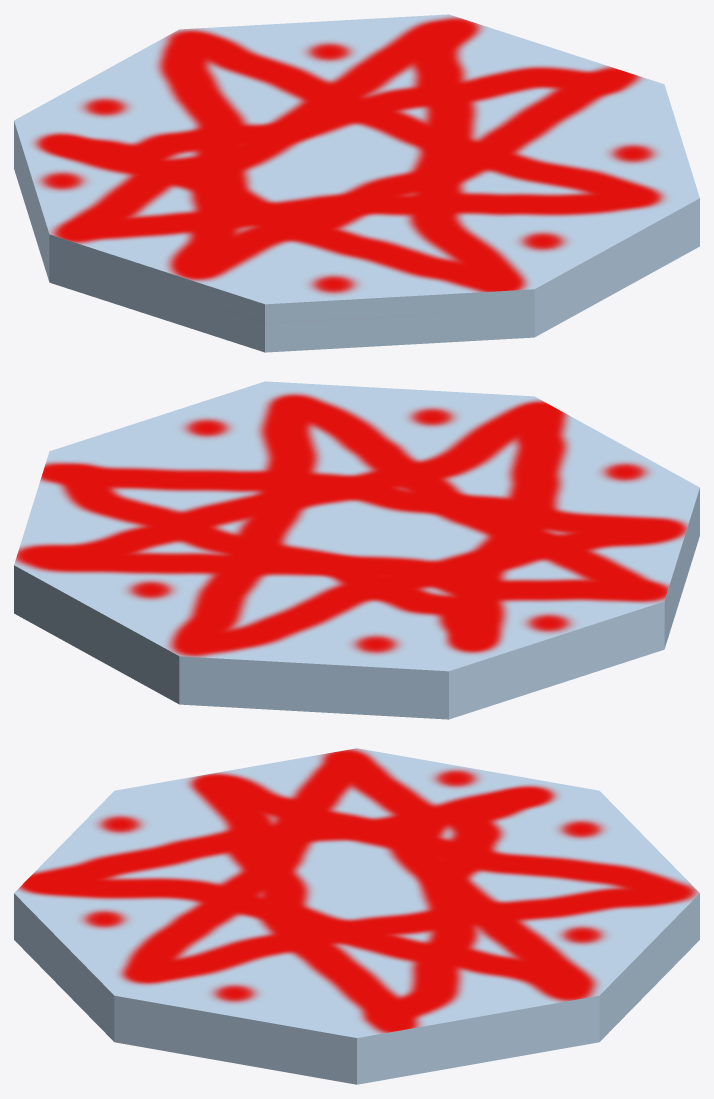
File: summoningshape.fbx
The picture shows the model from 3 angles, top to bottom: view 1: azimuth 30°, elevation 25°; view 2: azimuth 150°, elevation 25°; view 3: azimuth 270°, elevation 25°; orthographic projection. The views are drawn at different scales.
Parts seen in each view (by area): view 1: SummoningPlatform; view 2: SummoningPlatform; view 3: SummoningPlatform.
Boxes of the visible parts, x1=… form: SummoningPlatform: x1=14, y1=14, x2=699, y2=352; SummoningPlatform: x1=14, y1=381, x2=699, y2=719; SummoningPlatform: x1=14, y1=748, x2=699, y2=1084.
Bounding box in the file's own units: 2000 × 150 × 2000.
Materials: 1 (1 with a texture image).
